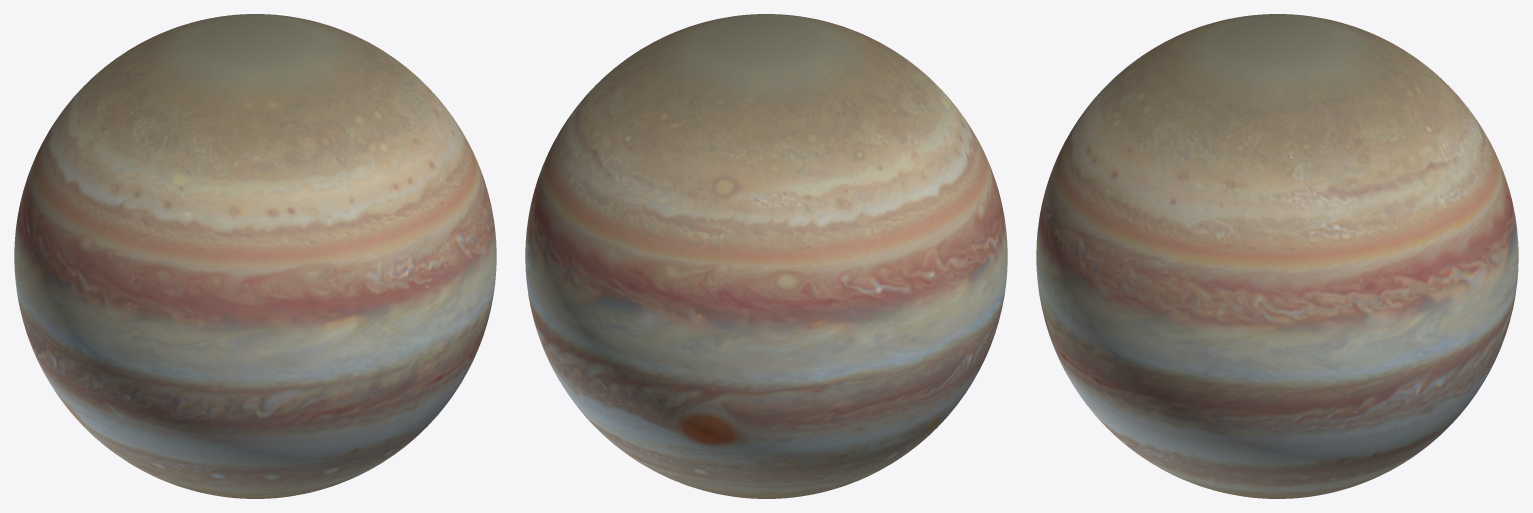
The model's file is jupiter.fbx.
3 views of the same model, side by side, from view 1: azimuth 30°, elevation 25°; view 2: azimuth 150°, elevation 25°; view 3: azimuth 270°, elevation 25° (orthographic).
Parts seen in each view (by area): view 1: jupiter; view 2: jupiter; view 3: jupiter.
Boxes of the visible parts, x1=… form: jupiter: x1=14, y1=14, x2=496, y2=498; jupiter: x1=525, y1=14, x2=1007, y2=498; jupiter: x1=1036, y1=14, x2=1518, y2=498.
Size of the model in its own units: 396 by 400 by 396.
1 material, 1 textured.
